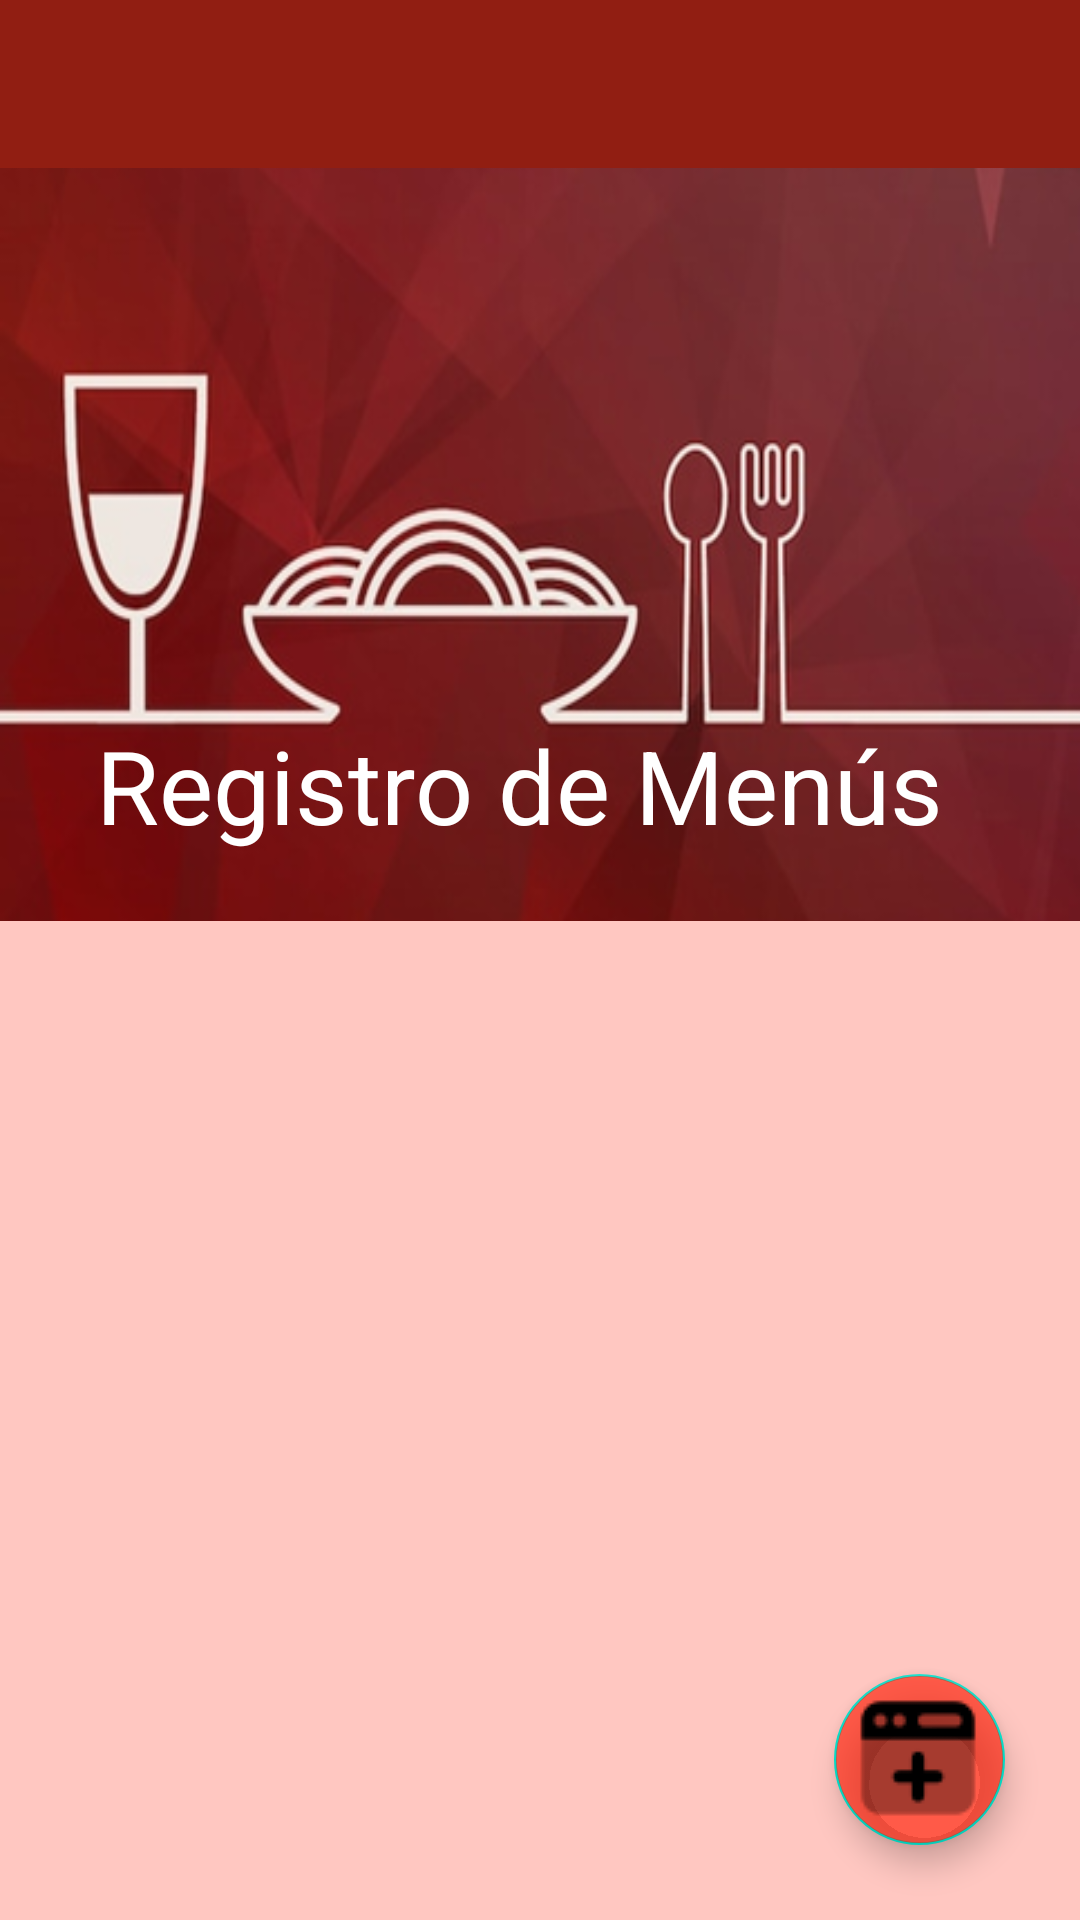

Where icons sit on this 1080 x 1920 app screen, as (x1, y1, x2, y2):
Agregar Menu: (834, 1674, 1005, 1845)
